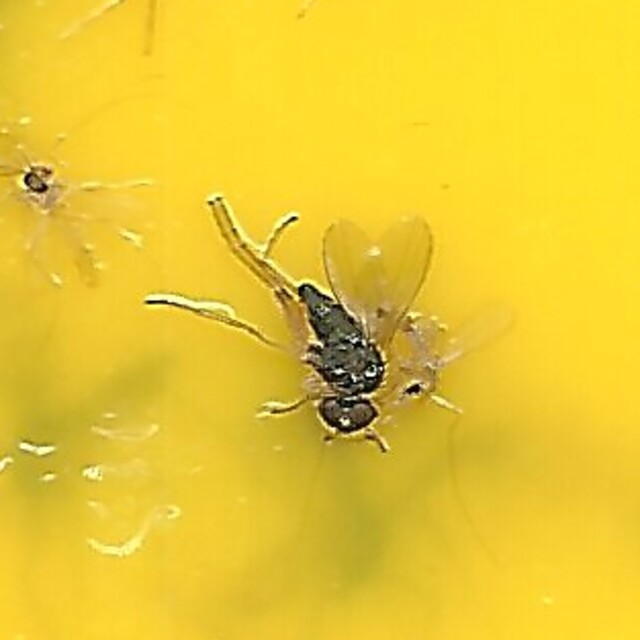Brachycera: (204, 195, 436, 445)
